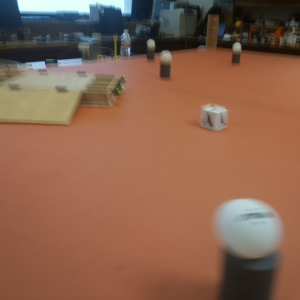blockA: (198, 99, 233, 140)
corner: (207, 12, 221, 51)
obstacle: (210, 194, 289, 300), (158, 51, 176, 81), (230, 42, 244, 67), (146, 38, 157, 58)
side: (83, 73, 125, 103)
slope: (1, 83, 77, 127)
